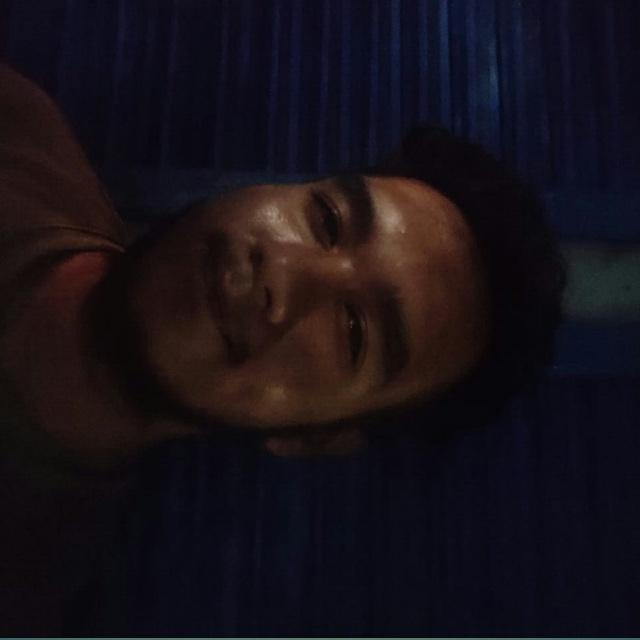Happy: (162, 147, 494, 467)
